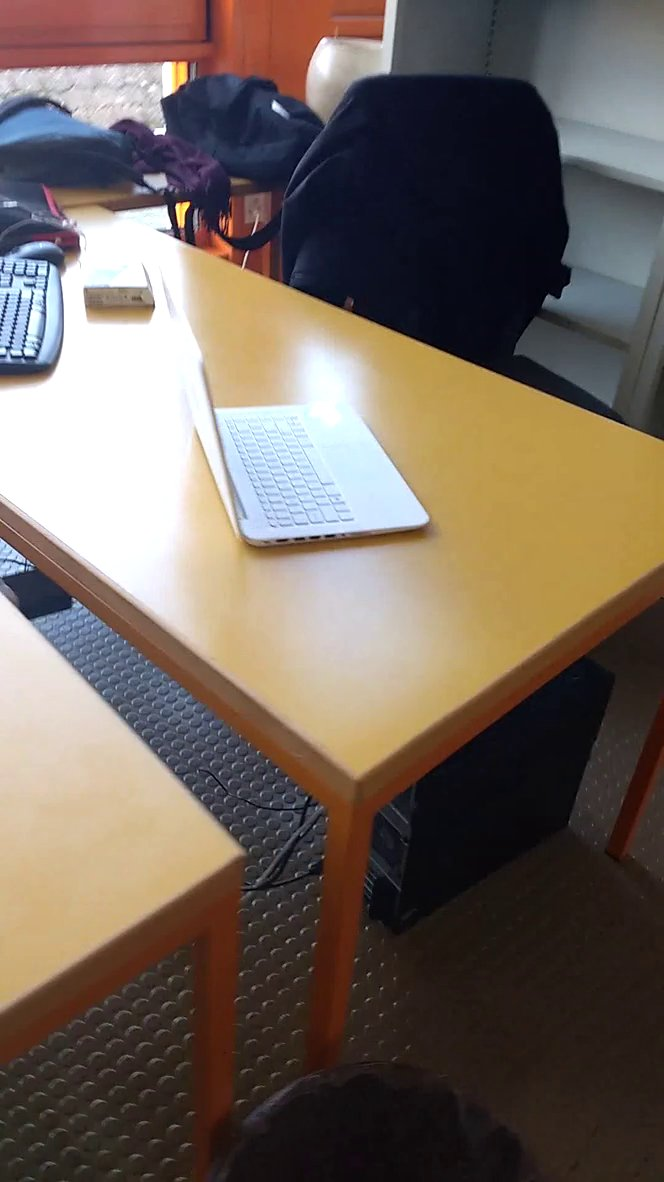bag: (155, 69, 334, 198)
chair: (279, 66, 581, 375)
laptop: (152, 239, 437, 556)
